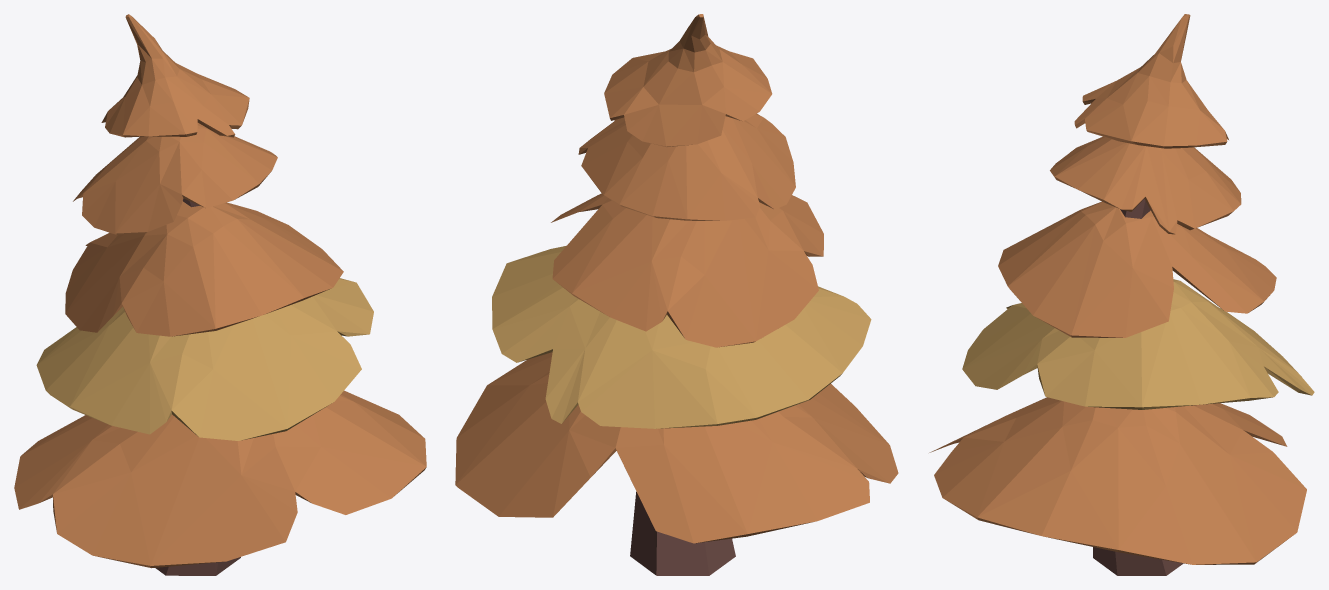
File: PineTree_Autumn_1.lod1.glb
The picture shows the model from 3 angles, left to right: view 1: azimuth 30°, elevation 25°; view 2: azimuth 150°, elevation 25°; view 3: azimuth 270°, elevation 25°; orthographic projection. The views are drawn at different scales.
Parts seen in each view (by area): view 1: PineTree_Autumn_1; view 2: PineTree_Autumn_1; view 3: PineTree_Autumn_1.
Part boxes in pixels (<box>): PineTree_Autumn_1: <box>14,14,426,575</box>; PineTree_Autumn_1: <box>455,14,898,575</box>; PineTree_Autumn_1: <box>929,14,1314,575</box>.
Bounding box in the file's own units: 1.95 × 2.7 × 1.8.
